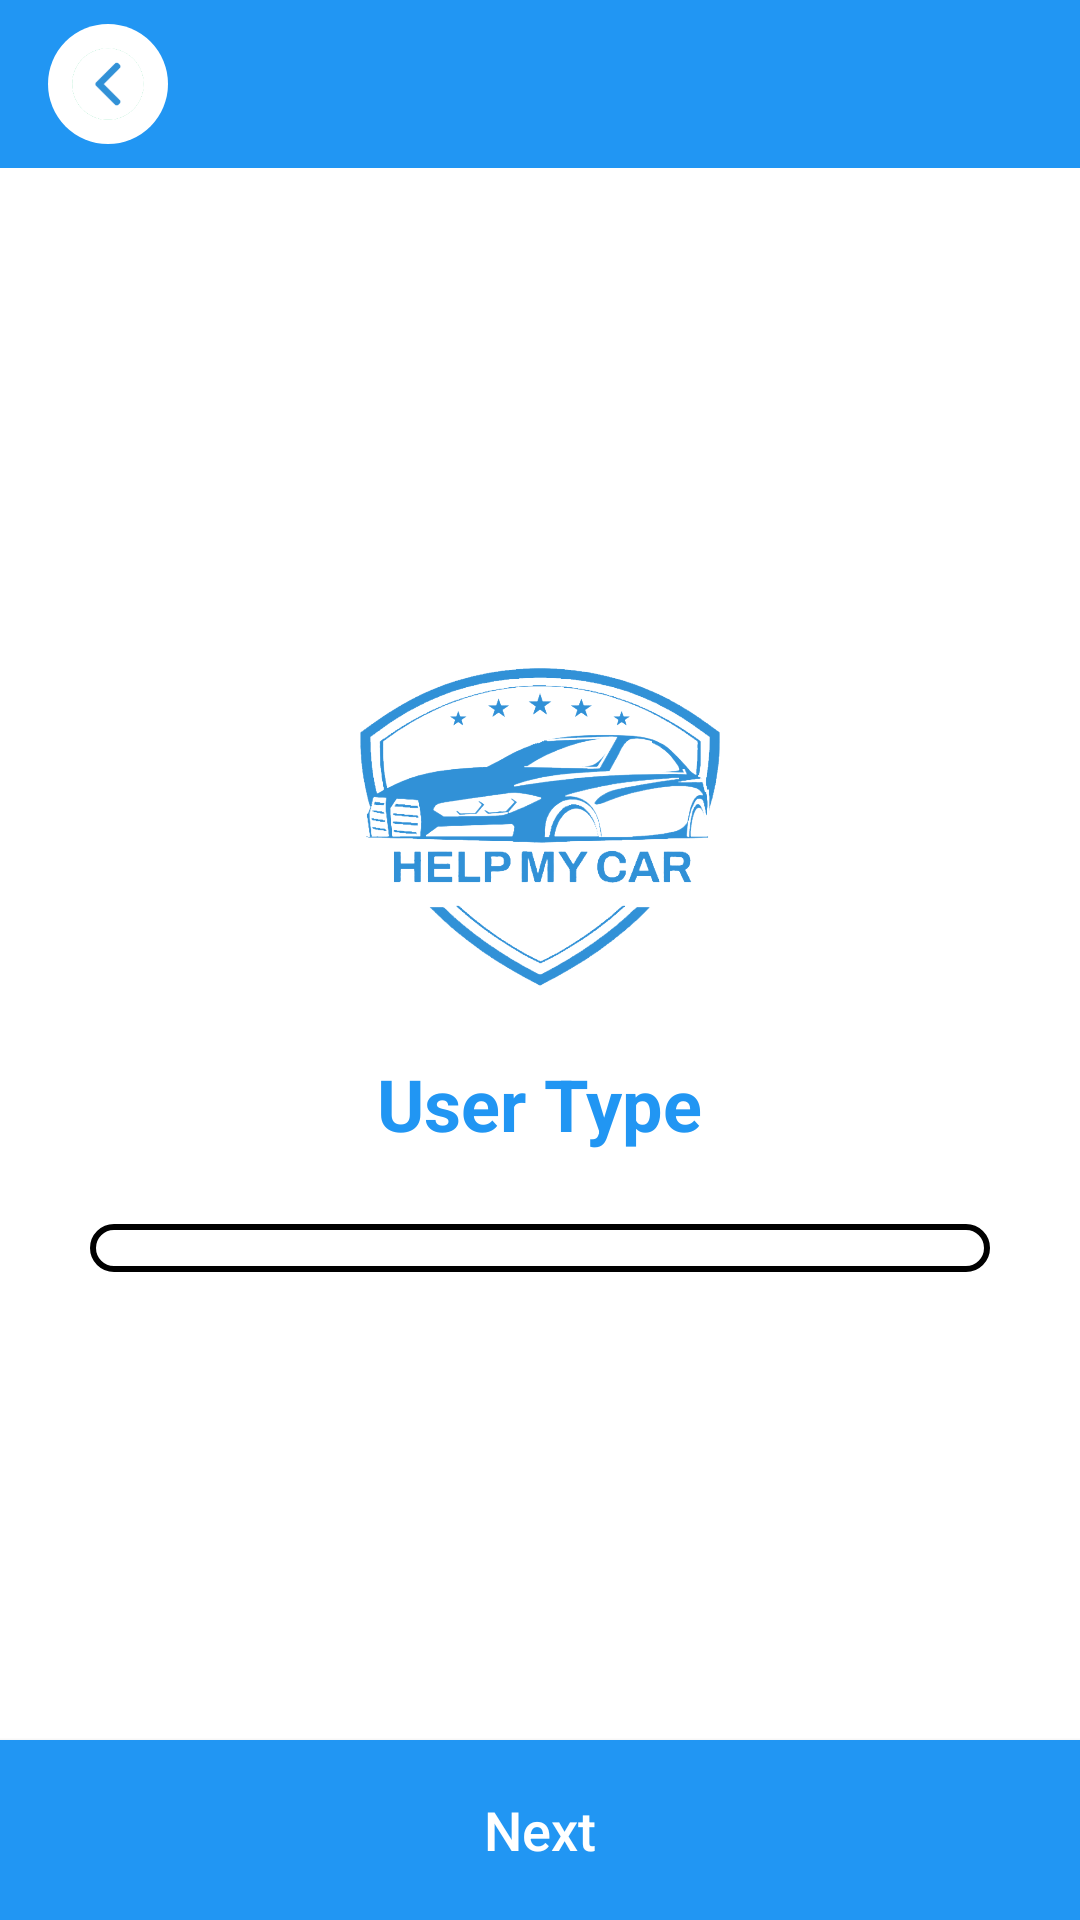

Screen size 1080 × 1920. Icon name, then its center in pixels as (x,y):
Back: (108,84)
